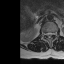CCS_normal: (48, 30, 50, 38)
LFS_normal: (52, 31, 54, 36)
LLS_normal: (50, 30, 52, 37)
RFS_normal: (44, 31, 46, 36)
RLS_normal: (46, 31, 48, 37)
